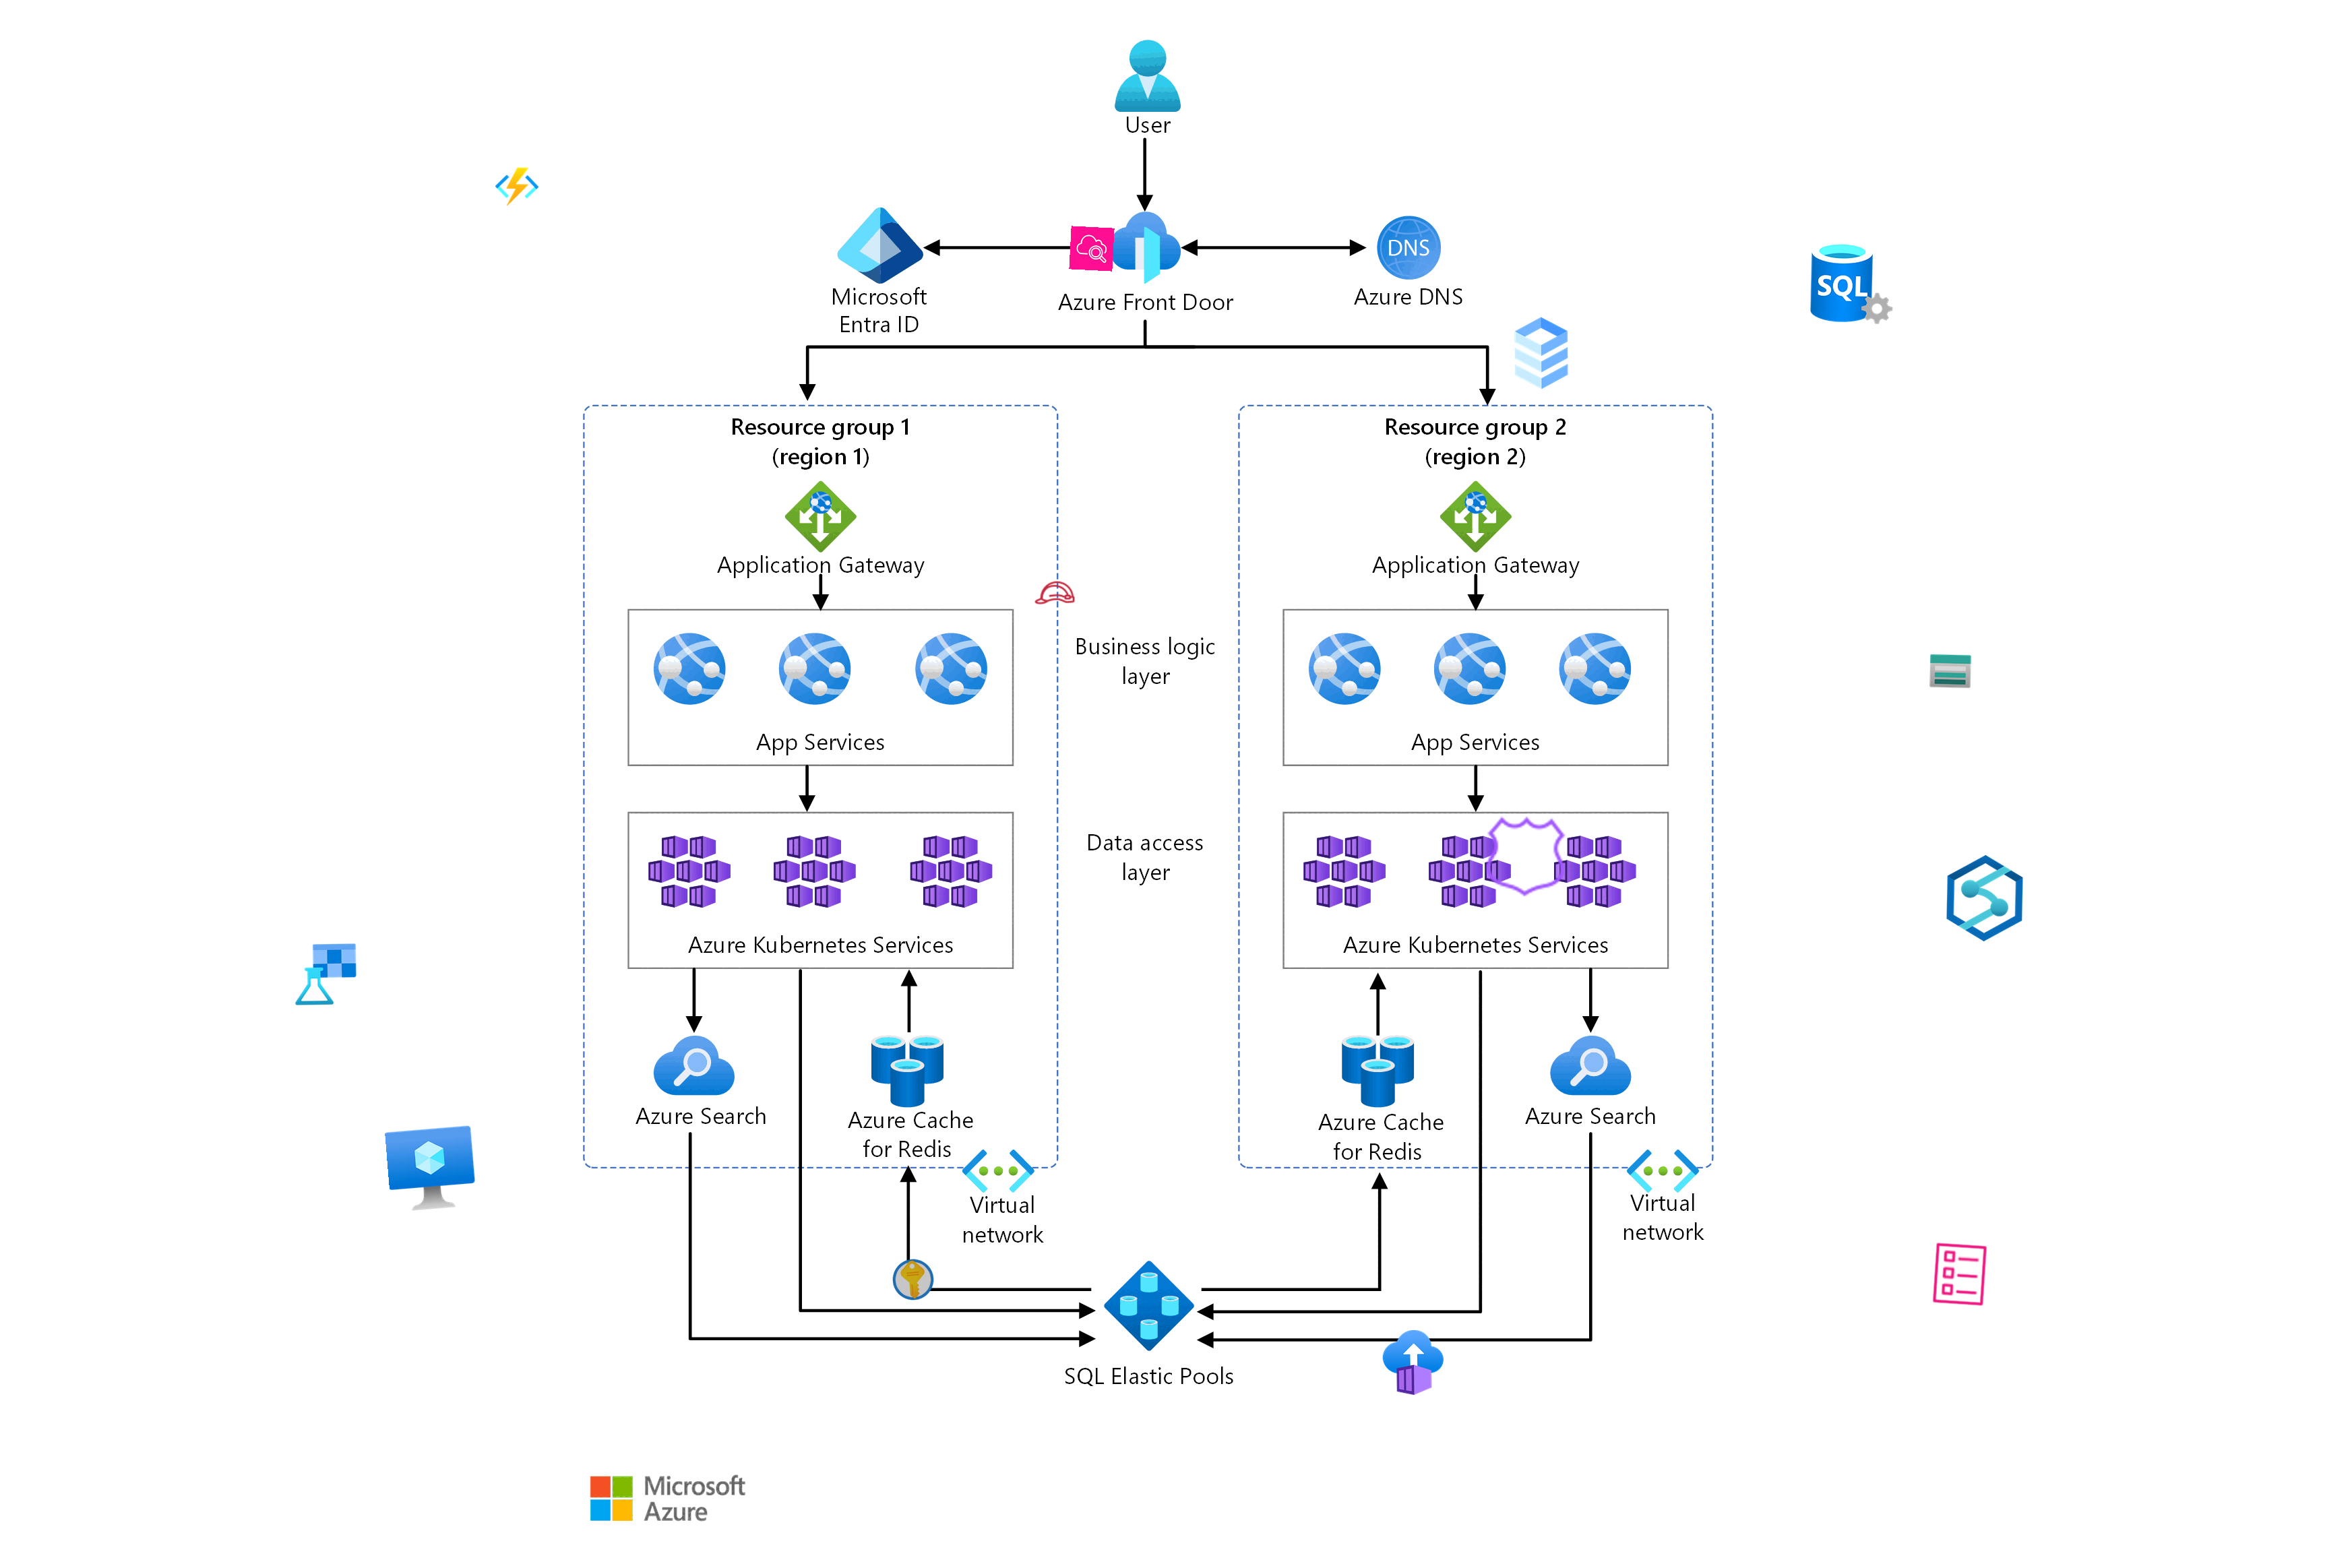aws_amazon_cloudwatch: (1069, 226, 1115, 271)
aws_cloudformation_template: (1923, 1239, 1995, 1309)
aws_identity_access_management_role: (1032, 570, 1076, 616)
aws_route_53_hosted_zone: (1482, 812, 1571, 901)
azure_container_instances: (1381, 1330, 1445, 1395)
azure_function_apps: (495, 165, 539, 208)
azure_key_vaults: (889, 1256, 936, 1304)
azure_machine_learning_studio_workspaces: (292, 942, 359, 1008)
azure_sql_server: (1808, 238, 1897, 327)
azure_storage_accounts: (1928, 649, 1972, 693)
azure_synapse_analytics: (1941, 854, 2030, 943)
azure_virtual_machine: (385, 1123, 478, 1218)
gcp_cloud_sql: (1498, 310, 1586, 397)
